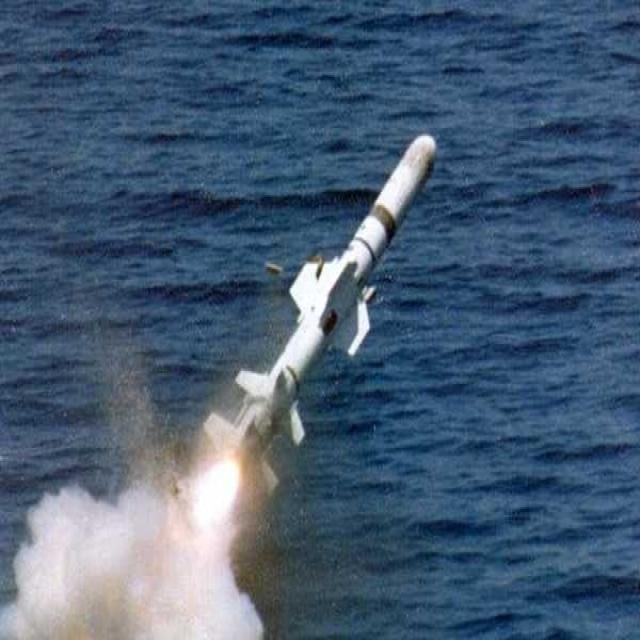missile: (222, 123, 435, 494)
